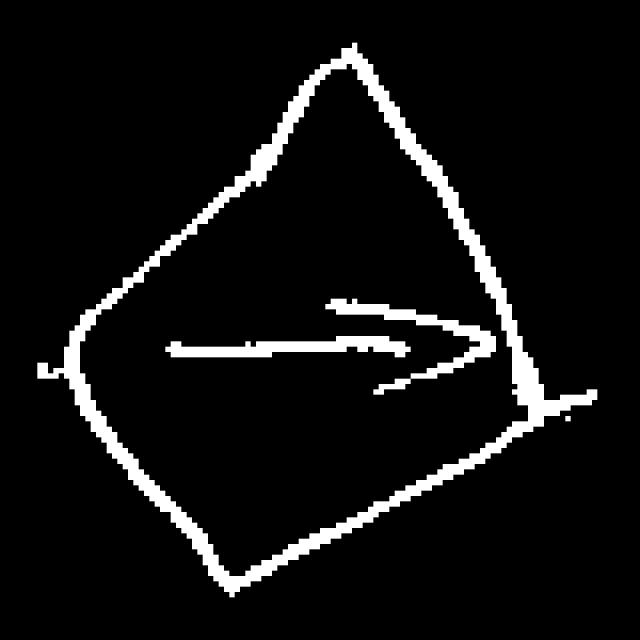dependant_current: (65, 39, 546, 596)
